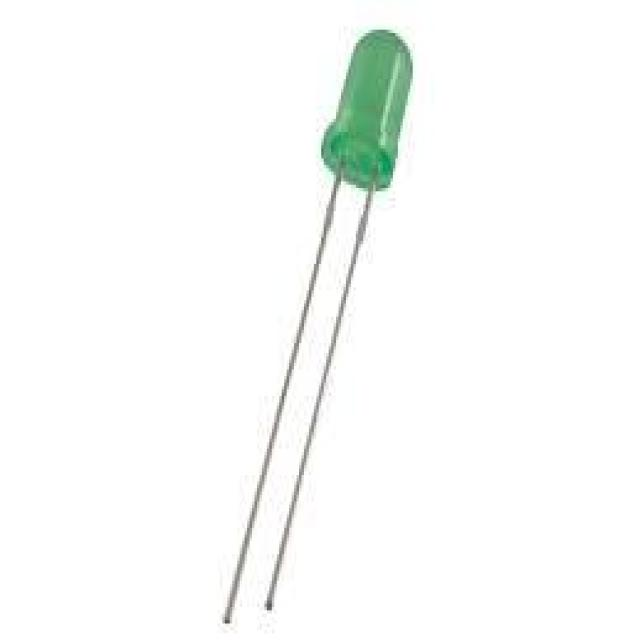Led: (227, 32, 413, 623)
